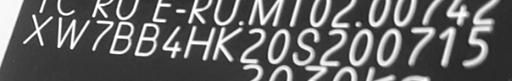letter: (404, 24, 438, 67), (462, 24, 494, 69), (182, 21, 216, 62), (210, 24, 244, 63), (55, 15, 91, 50), (290, 26, 322, 65), (318, 26, 348, 67), (20, 13, 54, 46), (238, 27, 268, 64), (346, 29, 376, 66), (375, 27, 403, 66), (108, 19, 136, 56), (436, 25, 460, 68), (266, 26, 292, 65), (134, 20, 160, 57), (90, 17, 114, 54), (160, 24, 184, 61)
